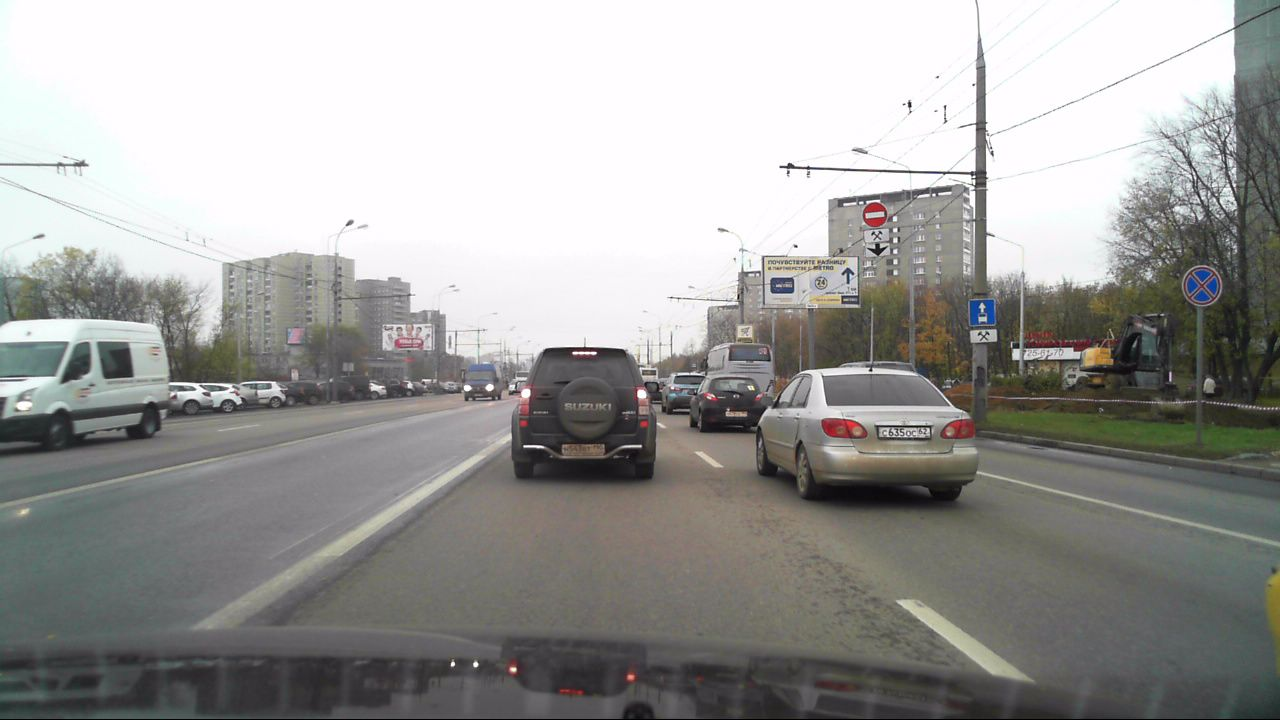No Parking: (1180, 264, 1223, 308)
